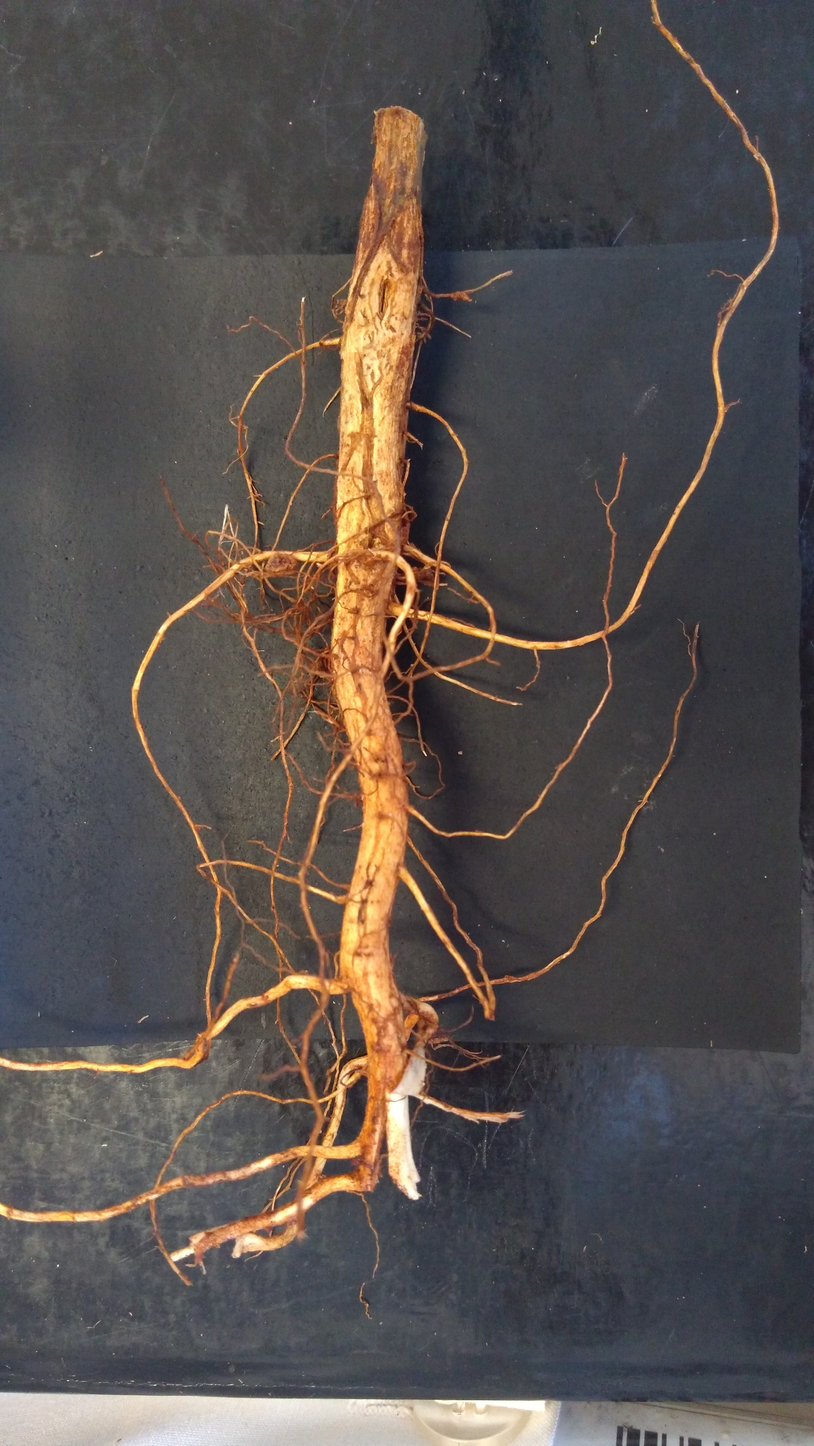nodule: (354, 531, 387, 567), (401, 566, 436, 588), (265, 551, 298, 573), (314, 647, 333, 672), (451, 291, 472, 303), (414, 283, 426, 304), (336, 298, 348, 312)
